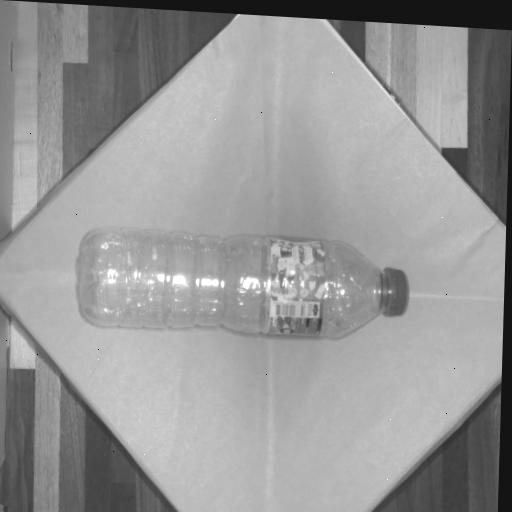bottle: (76, 224, 408, 351)
